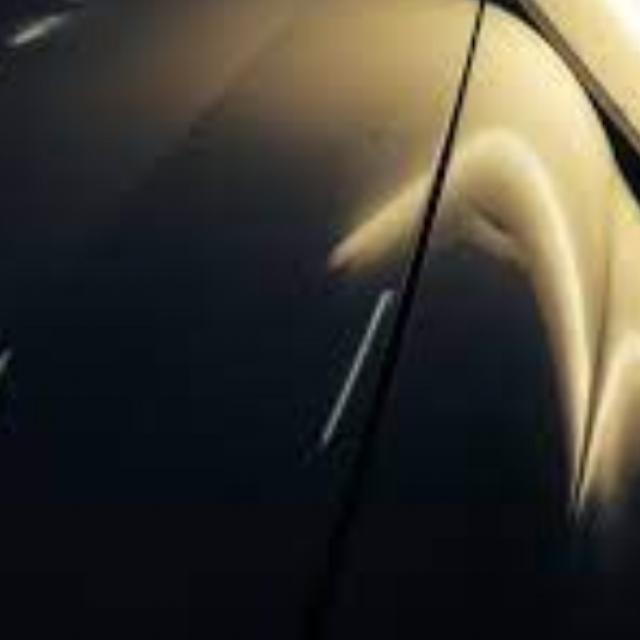dents: (460, 182, 574, 326)
